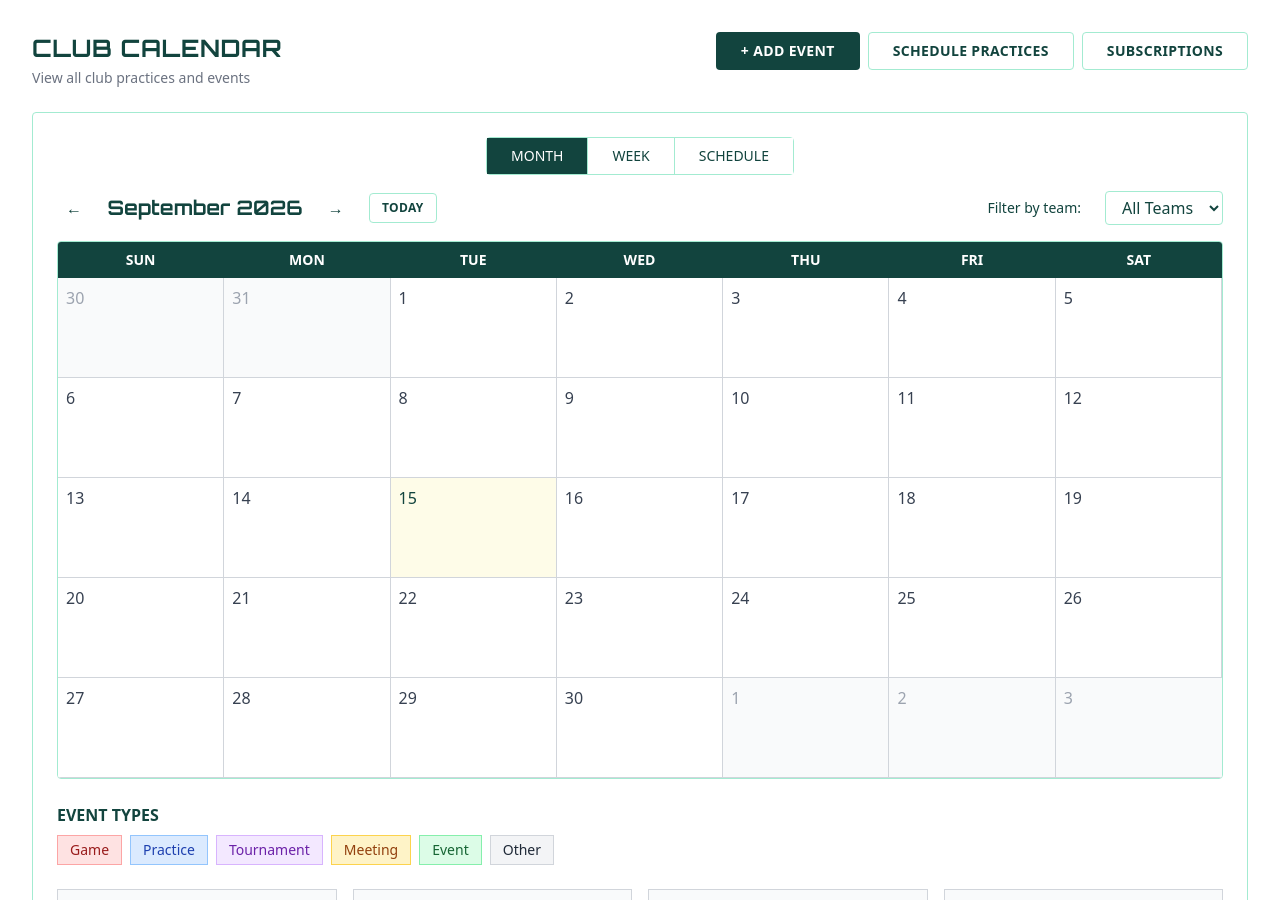
TeamCalendarView practice counts › still shows the empty state when there genuinely are no practices
What coordinates should you click on to do the following:
click the button "Schedule"
I would click on:
 (733, 156)
Its box is [674,138,793,174].
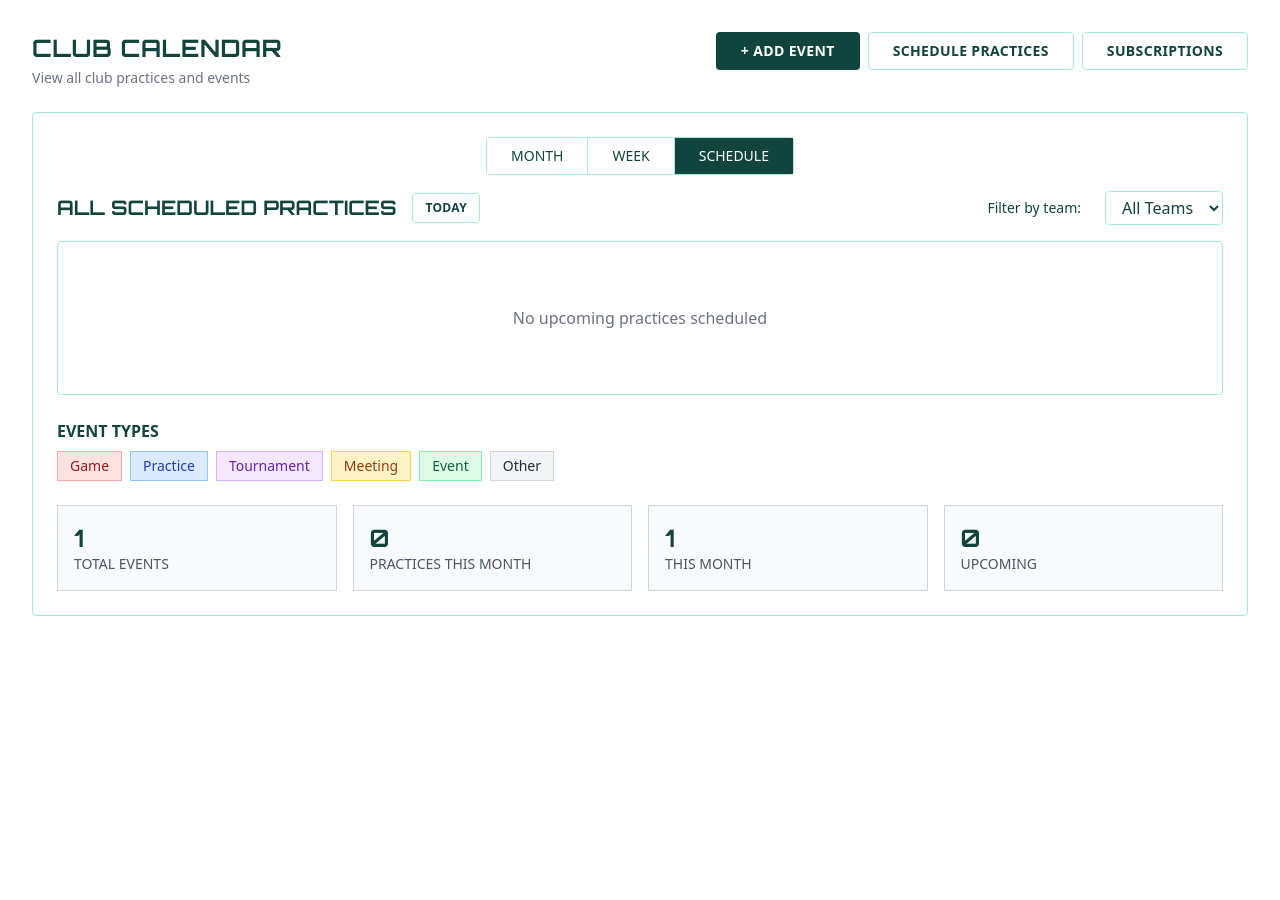
Now the heading "All Scheduled Practices" is shown, box [57,194,396,222]
Now the text "No upcoming practices scheduled" is shown, box [513,307,767,329]
